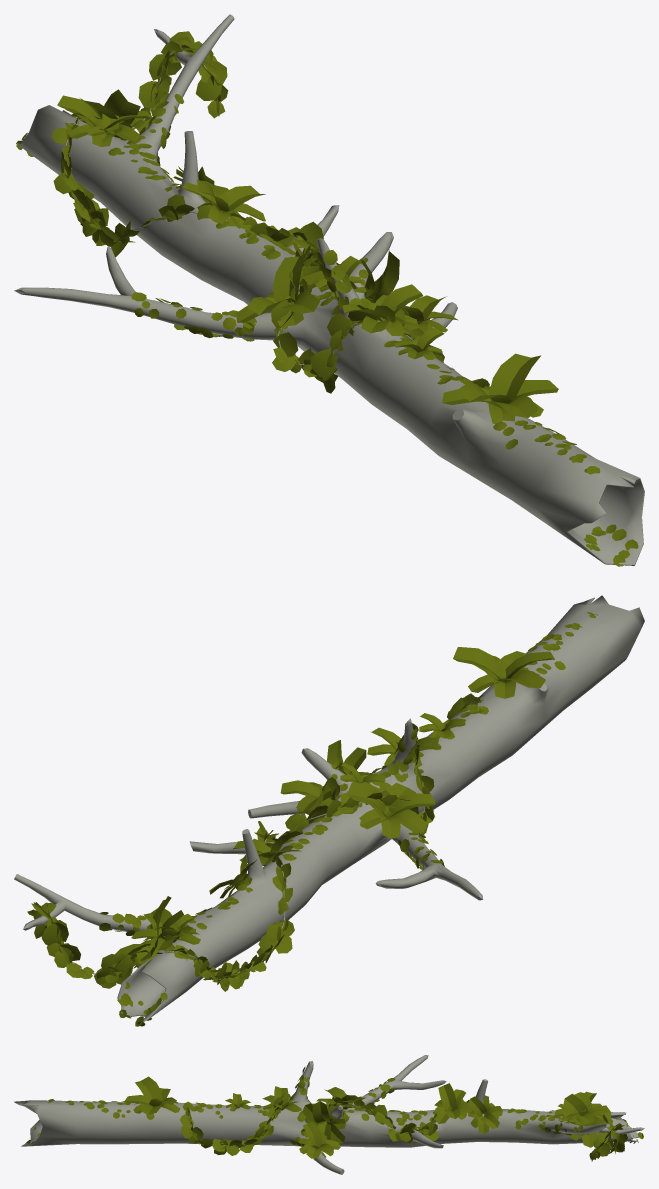
3 views of the same model, one above another, from view 1: azimuth 30°, elevation 25°; view 2: azimuth 150°, elevation 25°; view 3: azimuth 270°, elevation 25° (orthographic). The views are drawn at different scales.
Visible parts, largest first — view 1: Mesh332, Mesh334, Mesh342, Mesh335, Mesh333, Mesh340, Mesh337, Mesh344, Mesh341, Mesh338; view 2: Mesh332, Mesh334, Mesh342, Mesh340, Mesh333, Mesh337, Mesh344, Mesh341, Mesh335, Mesh338; view 3: Mesh332, Mesh344, Mesh334, Mesh337, Mesh335, Mesh343, Mesh341, Mesh333, Mesh340, Mesh342, Mesh338.
Part boxes in pixels (left/top/right/bottom): Mesh332: left=14, top=14, right=644, bottom=565; Mesh334: left=442, top=353, right=558, bottom=424; Mesh342: left=236, top=252, right=322, bottom=326; Mesh335: left=182, top=180, right=265, bottom=229; Mesh333: left=342, top=284, right=422, bottom=335; Mesh340: left=57, top=95, right=151, bottom=146; Mesh337: left=360, top=249, right=399, bottom=303; Mesh344: left=70, top=89, right=140, bottom=138; Mesh341: left=400, top=295, right=457, bottom=332; Mesh338: left=393, top=327, right=444, bottom=359; Mesh332: left=14, top=595, right=644, bottom=1022; Mesh334: left=453, top=647, right=554, bottom=698; Mesh342: left=347, top=782, right=435, bottom=838; Mesh340: left=131, top=908, right=200, bottom=949; Mesh333: left=367, top=727, right=440, bottom=767; Mesh337: left=312, top=740, right=368, bottom=809; Mesh344: left=112, top=896, right=183, bottom=967; Mesh341: left=280, top=780, right=335, bottom=812; Mesh335: left=233, top=830, right=303, bottom=867; Mesh338: left=419, top=713, right=465, bottom=739; Mesh332: left=14, top=1055, right=644, bottom=1174; Mesh344: left=562, top=1092, right=611, bottom=1147; Mesh334: left=124, top=1076, right=180, bottom=1114; Mesh337: left=301, top=1101, right=345, bottom=1151; Mesh335: left=433, top=1083, right=473, bottom=1123; Mesh343: left=468, top=1095, right=502, bottom=1134; Mesh341: left=298, top=1121, right=340, bottom=1158; Mesh333: left=262, top=1086, right=300, bottom=1115; Mesh340: left=554, top=1091, right=603, bottom=1125; Mesh342: left=316, top=1087, right=365, bottom=1109; Mesh338: left=225, top=1093, right=250, bottom=1111.
Bounding box in the file's own units: 0.7567 × 0.2941 × 2.
